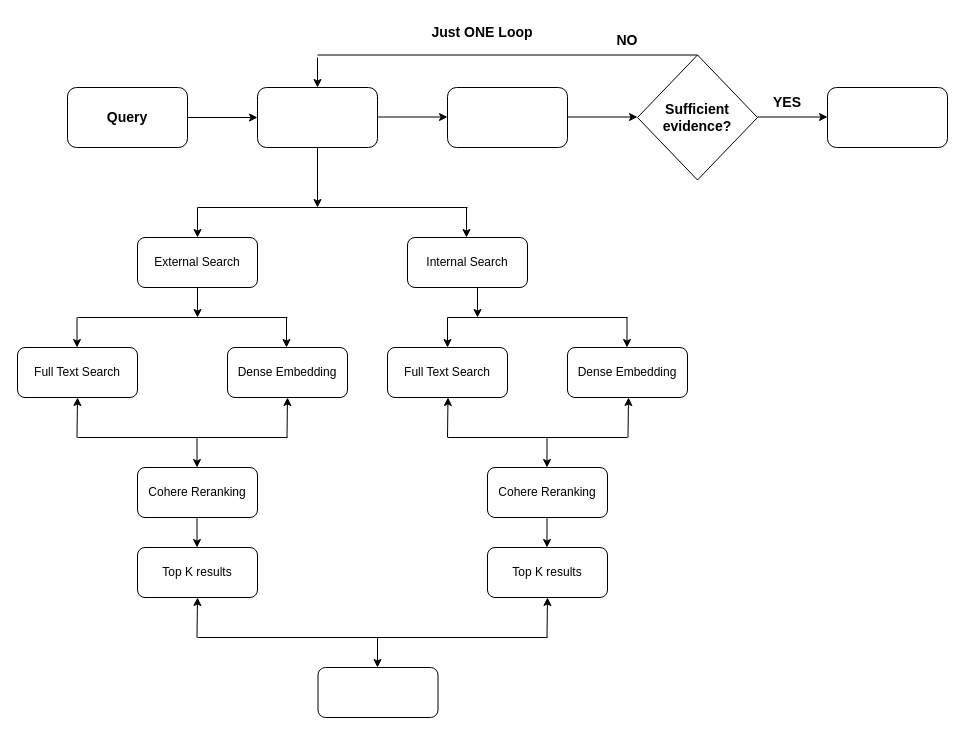
The diagram is 965 pixels wide and 735 high, and some of its shapes have lost their labels. Each missing label, with the centre of its shape:
"Complete Search" goes at pixel 317 117.
"Complete Search Results" goes at pixel 377 692.
"Retrieval Agent" goes at pixel 507 117.
"Retrieval Result" goes at pixel 887 117.
